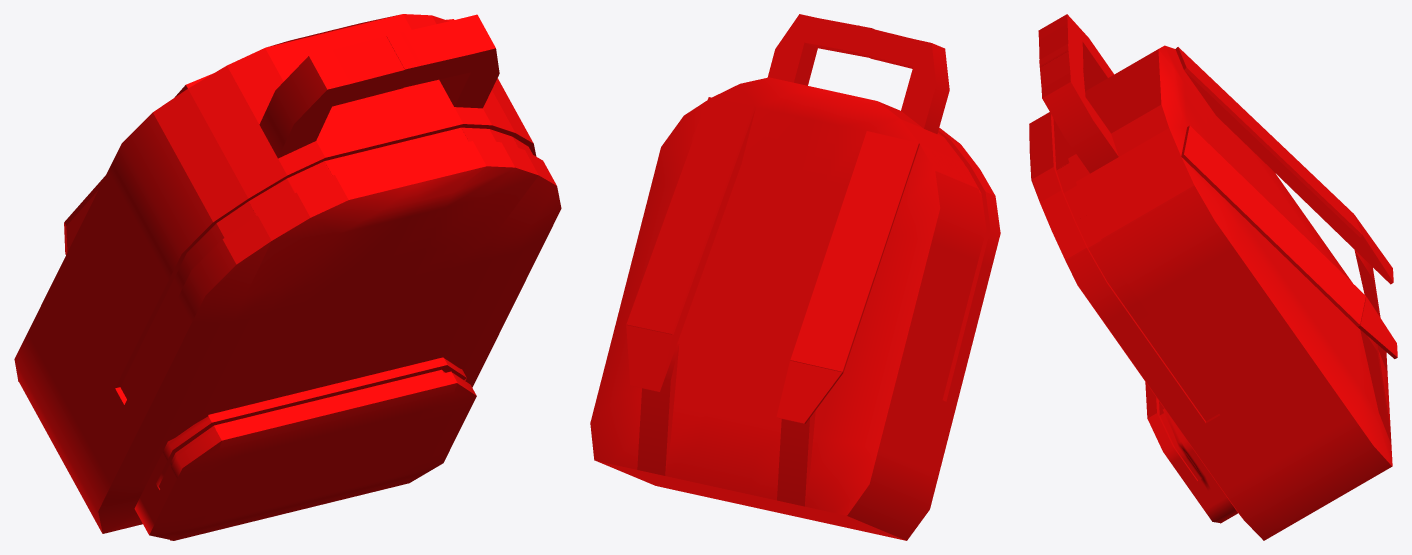
File: canta.fbx
3 views of the same model, side by side, from view 1: azimuth 30°, elevation 25°; view 2: azimuth 150°, elevation 25°; view 3: azimuth 270°, elevation 25° (orthographic). The views are drawn at different scales.
Parts seen in each view (by area): view 1: canta; view 2: canta; view 3: canta.
Boxes of the visible parts, x1,y1,x2,y2 form: canta: [14, 14, 561, 540]; canta: [590, 14, 1000, 540]; canta: [1029, 14, 1397, 540].
Bounding box in the file's own units: 1.52 × 2.15 × 1.65.
